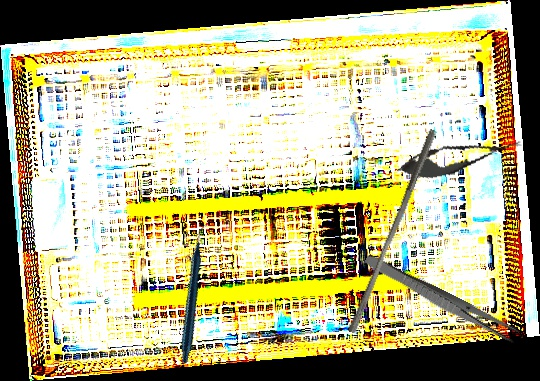Dressing Forceps: (361, 252, 521, 346)
Handpiece: (125, 223, 266, 365)
Micro Scissor: (393, 127, 526, 188)
Pusher: (347, 125, 437, 337)
